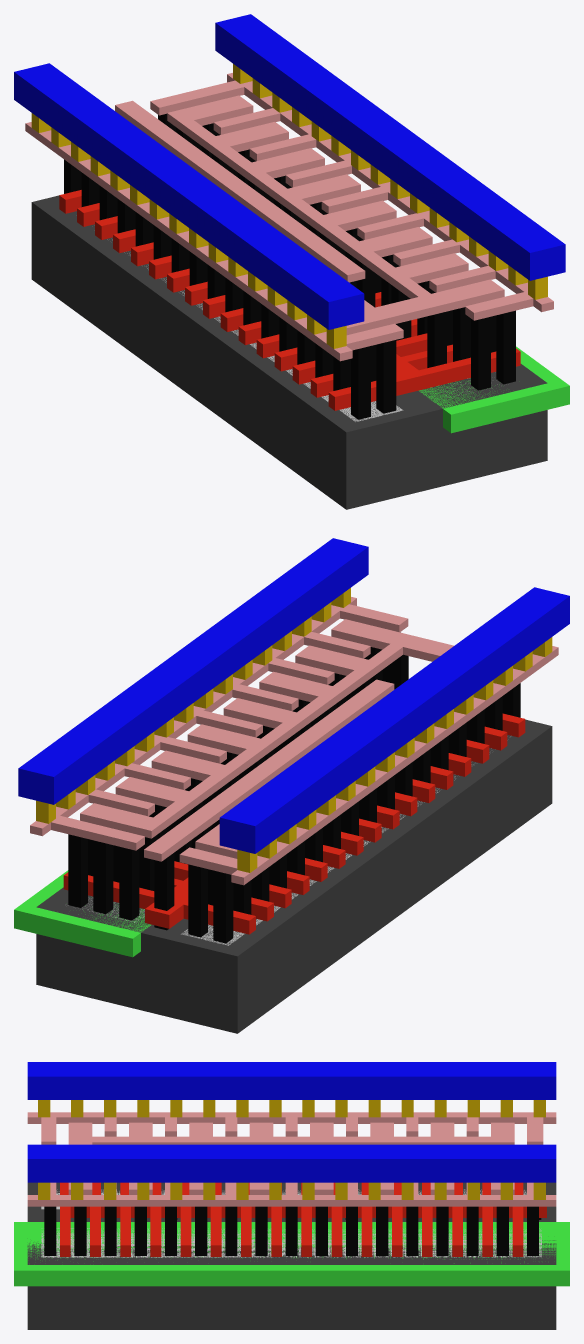
File: sky130_fd_sc_hd__inv_16.obj
3 views of the same model, one above another, from view 1: azimuth 30°, elevation 25°; view 2: azimuth 150°, elevation 25°; view 3: azimuth 270°, elevation 25° (orthographic). The views are drawn at different scales.
Visible parts, largest first — view 1: subs, metal1, li, licon, poly, mcon, nwell; view 2: subs, metal1, li, licon, poly, mcon, nwell, diff; view 3: metal1, subs, li, nwell, poly, licon, mcon, tap.
Boxes of the visible parts, <box> form: subs: <box>31,195,547,509</box>; metal1: <box>14,14,565,329</box>; li: <box>25,73,553,361</box>; licon: <box>64,113,515,419</box>; poly: <box>59,190,520,410</box>; mcon: <box>31,64,547,348</box>; nwell: <box>419,346,569,433</box>; subs: <box>36,719,552,1033</box>; metal1: <box>18,538,569,853</box>; li: <box>30,597,558,885</box>; licon: <box>68,632,520,943</box>; poly: <box>63,713,525,934</box>; mcon: <box>36,588,552,872</box>; nwell: <box>14,870,150,957</box>; diff: <box>181,736,510,945</box>; metal1: <box>27,1062,556,1182</box>; subs: <box>27,1182,556,1329</box>; li: <box>27,1112,556,1206</box>; nwell: <box>14,1222,569,1286</box>; poly: <box>60,1182,546,1256</box>; licon: <box>44,1206,541,1255</box>; mcon: <box>38,1100,545,1199</box>; tap: <box>41,1228,541,1257</box>.
Bounding box in the file's own units: 3.2 × 2.74 × 7.74.
